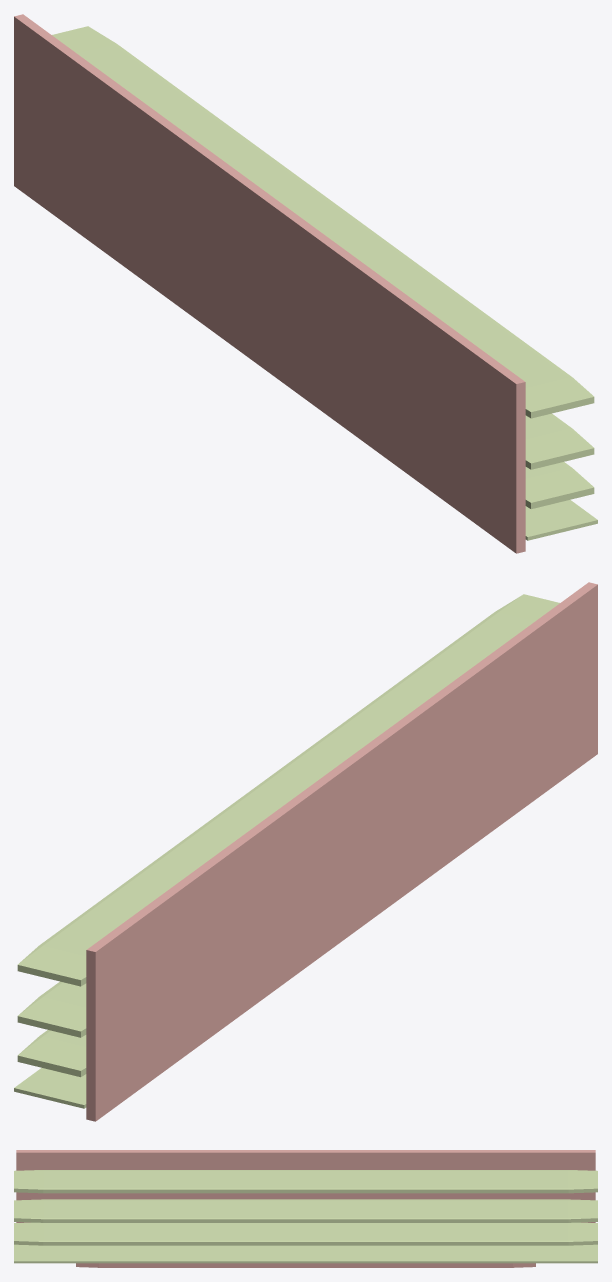
File: rack_custom.fbx
The picture shows the model from 3 angles, top to bottom: view 1: azimuth 30°, elevation 25°; view 2: azimuth 150°, elevation 25°; view 3: azimuth 270°, elevation 25°; orthographic projection. The views are drawn at different scales.
Parts seen in each view (by area): view 1: rack_back, rack shelves.003, rack shelves.002, rack shelves.001, rack shelves; view 2: rack_back, rack shelves.003, rack shelves.002, rack shelves.001, rack shelves; view 3: rack_back, rack shelves.002, rack shelves.003, rack shelves.001, rack shelves, rack_bottom.
Part boxes in pixels (<box>): rack_back: <box>14,14,525,553</box>; rack shelves.003: <box>52,26,594,418</box>; rack shelves.002: <box>525,413,594,469</box>; rack shelves.001: <box>525,462,594,509</box>; rack shelves: <box>525,500,597,540</box>; rack_back: <box>86,582,597,1121</box>; rack shelves.003: <box>17,594,559,986</box>; rack shelves.002: <box>17,981,86,1037</box>; rack shelves.001: <box>17,1030,86,1077</box>; rack shelves: <box>14,1068,86,1108</box>; rack_back: <box>16,1150,595,1222</box>; rack shelves.002: <box>14,1199,597,1222</box>; rack shelves.003: <box>14,1170,597,1193</box>; rack shelves.001: <box>14,1222,597,1245</box>; rack shelves: <box>14,1244,597,1263</box>; rack_bottom: <box>76,1263,535,1267</box>.
Size of the model in its own units: 226 by 464 by 2492.
